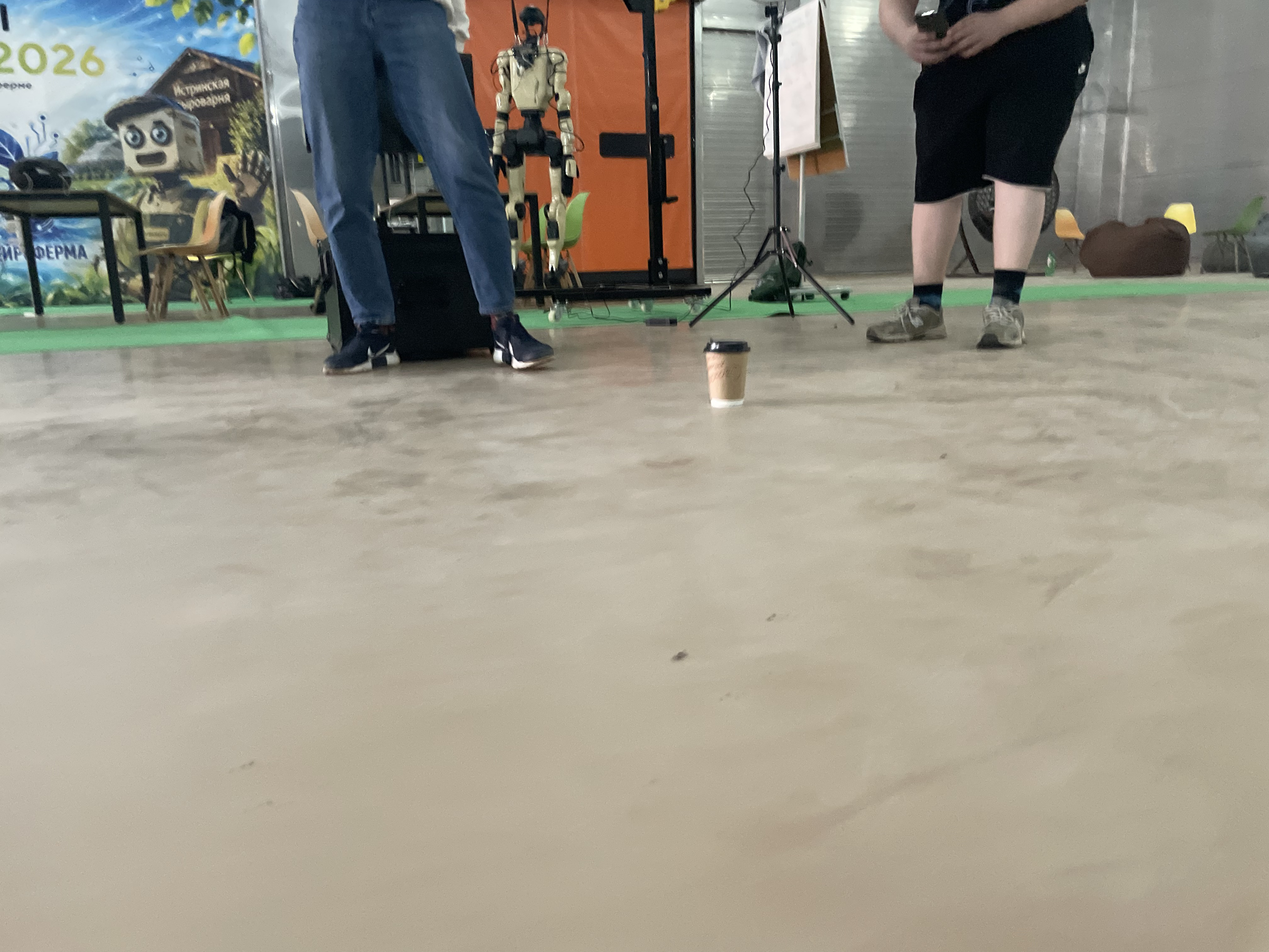cup: (703, 338, 751, 409)
